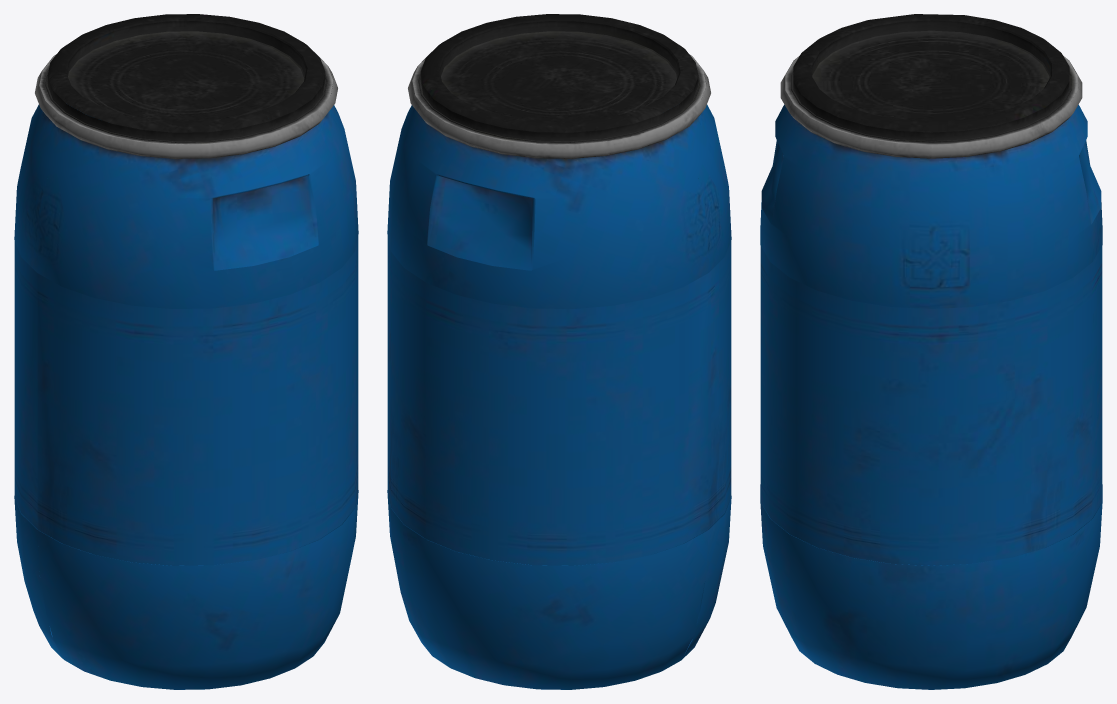
The model's file is Barrel_02_lod.glb.
The picture shows the model from 3 angles, left to right: view 1: azimuth 30°, elevation 25°; view 2: azimuth 150°, elevation 25°; view 3: azimuth 270°, elevation 25°; orthographic projection.
Visible parts, largest first — view 1: Barrel_02; view 2: Barrel_02; view 3: Barrel_02.
Boxes of the visible parts, <box> form: Barrel_02: <box>14,14,358,689</box>; Barrel_02: <box>387,14,731,689</box>; Barrel_02: <box>760,14,1102,689</box>.
Size of the model in its own units: 0.4882 by 0.88 by 0.4846.
1 material, 1 textured.
